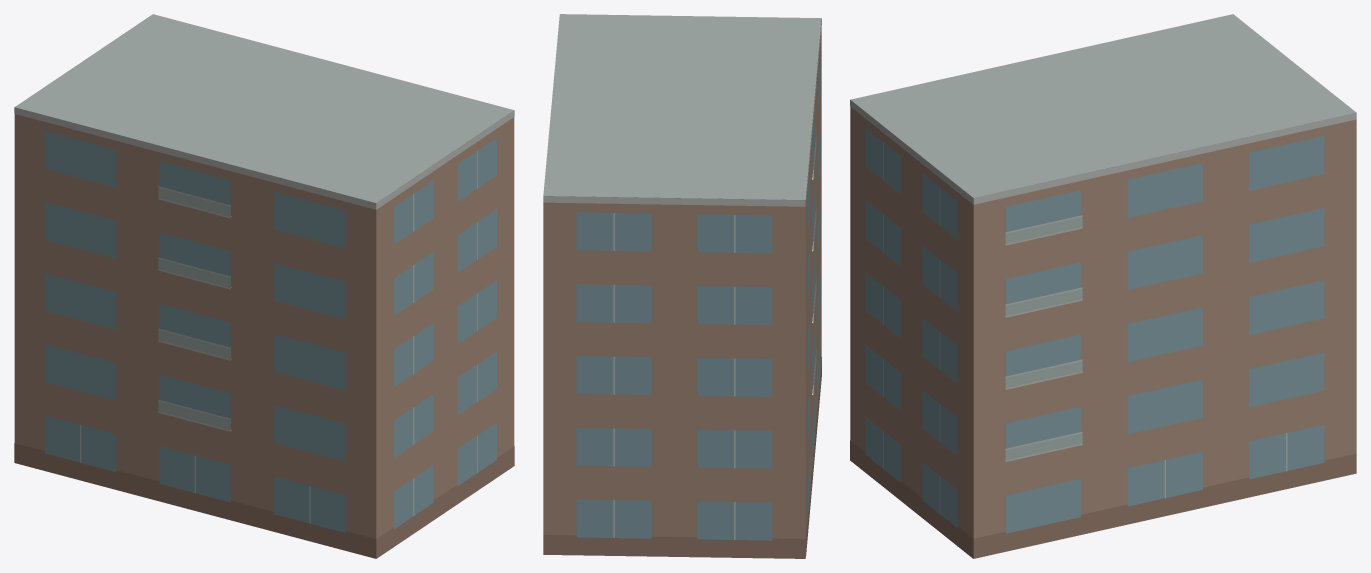
Rendered from survey-upis-32889401.glb.
The picture shows the model from 3 angles, left to right: view 1: azimuth 30°, elevation 25°; view 2: azimuth 150°, elevation 25°; view 3: azimuth 270°, elevation 25°; orthographic projection.
Parts seen in each view (by area): view 1: survey-upis-32889401.tmp; view 2: survey-upis-32889401.tmp; view 3: survey-upis-32889401.tmp.
Boxes of the visible parts, x1=… form: survey-upis-32889401.tmp: x1=14, y1=14, x2=514, y2=558; survey-upis-32889401.tmp: x1=543, y1=14, x2=821, y2=558; survey-upis-32889401.tmp: x1=850, y1=14, x2=1356, y2=558.
Bounding box in the file's own units: 14.34 × 13.1 × 16.67.
